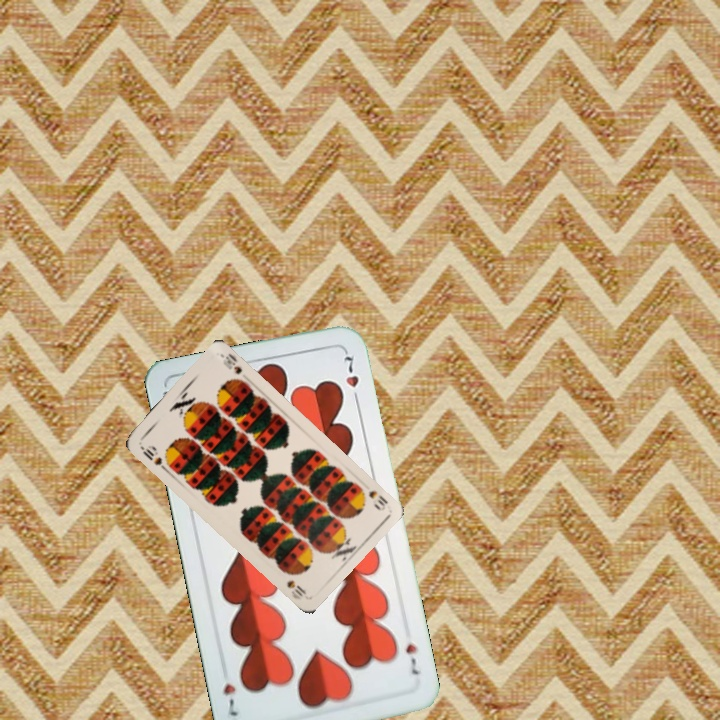H7: (401, 639, 421, 678)
S10: (355, 483, 391, 514), (136, 441, 169, 473)
